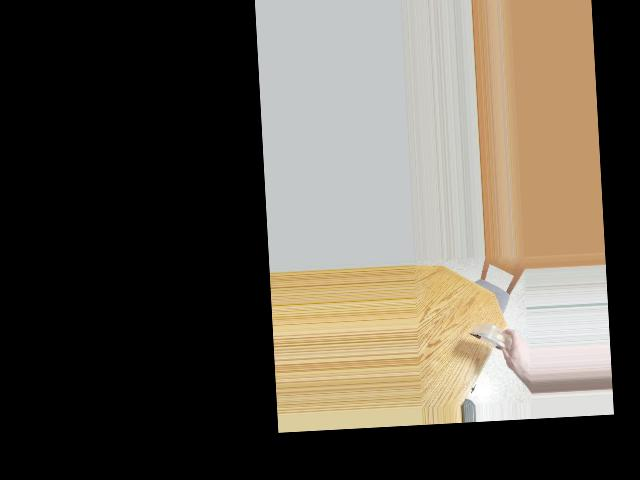cheese: (470, 321, 514, 351)
